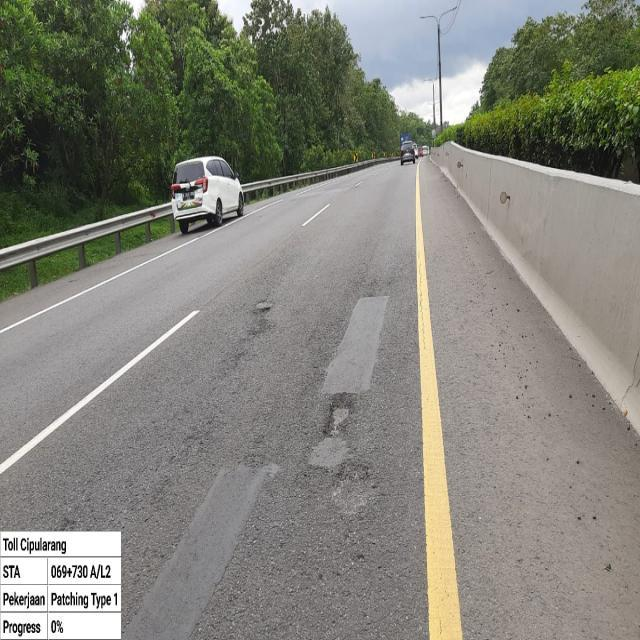Buraco: (320, 390, 362, 440), (247, 297, 277, 319)
